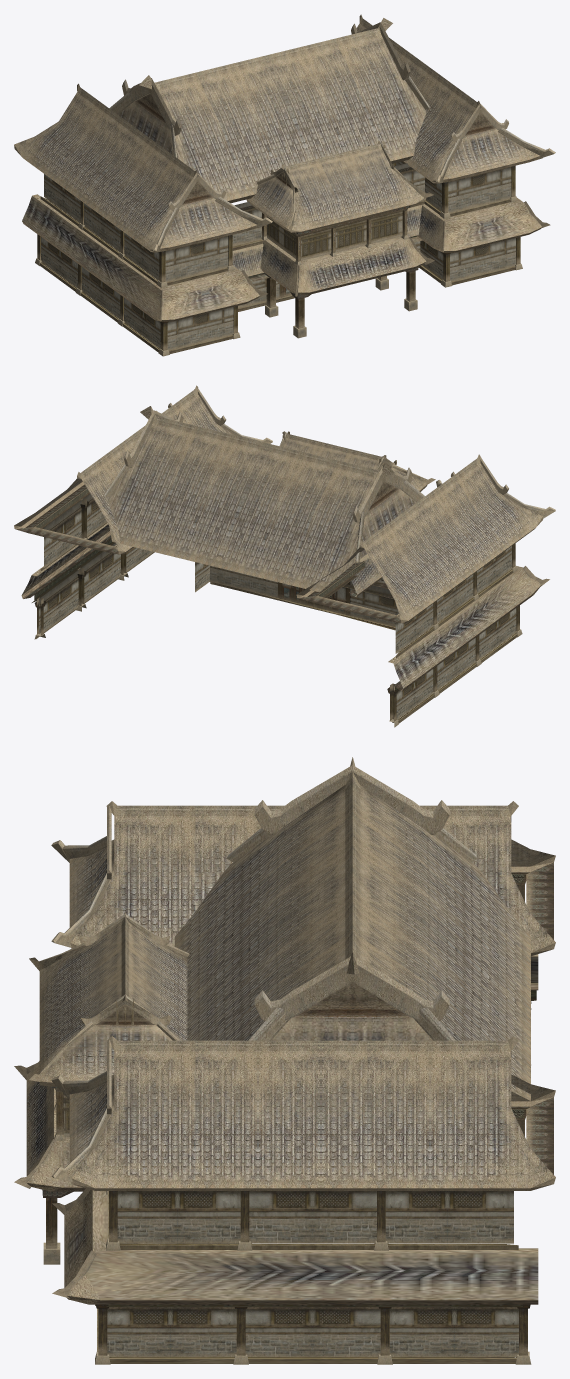
File: desert-006-castle_lod_01.fbx
3 renders of one model, top to bottom at view 1: azimuth 30°, elevation 25°; view 2: azimuth 150°, elevation 25°; view 3: azimuth 270°, elevation 25°, orthographic. The views are drawn at different scales.
Visible parts, largest first — view 1: b1-006-castle-02, b1-006-castle-04, b1-006-castle-01, b1-006-castle-03, b1-006-castle-05; view 2: b1-006-castle-02, b1-006-castle-04, b1-006-castle-01, b1-006-castle-03; view 3: b1-006-castle-02, b1-006-castle-04, b1-006-castle-01, b1-006-castle-03, b1-006-castle-05.
Boxes of the visible parts, x1=… form: b1-006-castle-02: x1=14, y1=14, x2=542, y2=265; b1-006-castle-04: x1=35, y1=161, x2=550, y2=356; b1-006-castle-01: x1=22, y1=194, x2=541, y2=321; b1-006-castle-03: x1=109, y1=22, x2=555, y2=260; b1-006-castle-05: x1=264, y1=267, x2=418, y2=338; b1-006-castle-02: x1=14, y1=385, x2=542, y2=623; b1-006-castle-04: x1=32, y1=494, x2=549, y2=727; b1-006-castle-01: x1=21, y1=523, x2=541, y2=691; b1-006-castle-03: x1=104, y1=388, x2=555, y2=567; b1-006-castle-02: x1=29, y1=757, x2=555, y2=1190; b1-006-castle-04: x1=14, y1=885, x2=536, y2=1364; b1-006-castle-01: x1=26, y1=954, x2=538, y2=1304; b1-006-castle-03: x1=51, y1=765, x2=477, y2=1182; b1-006-castle-05: x1=42, y1=1189, x2=73, y2=1264.
Bounding box in the file's own units: 30.4 × 15.24 × 20.79.
